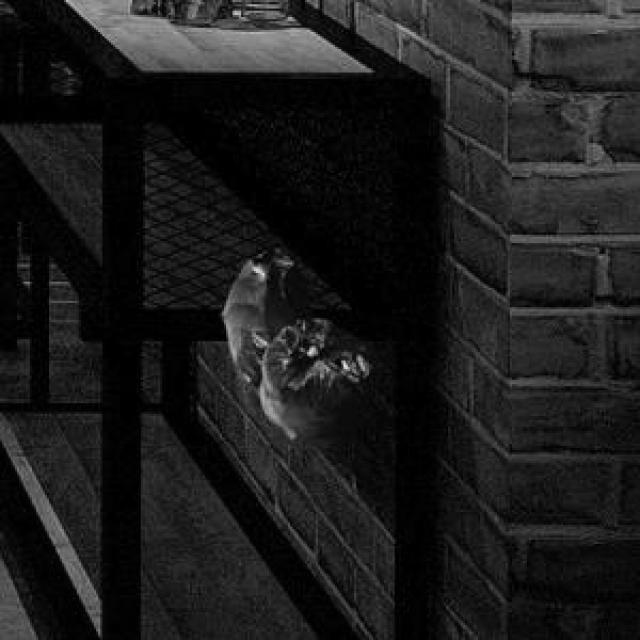miscellaneous trash: (218, 245, 376, 450)
